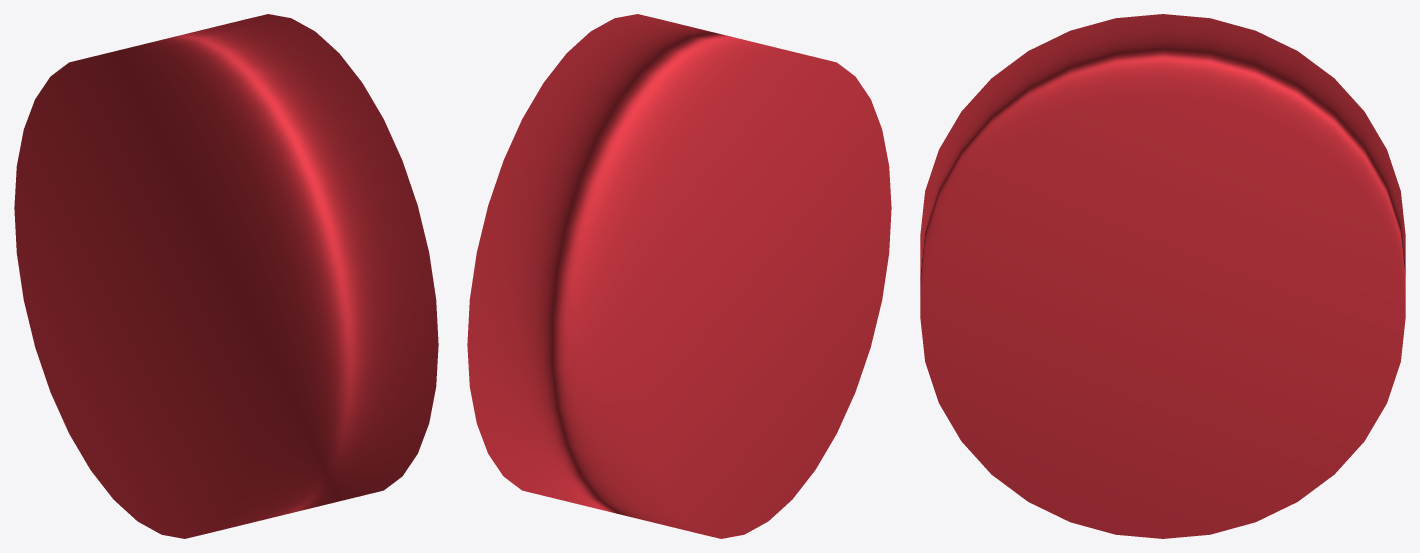
File: GT3_CenterLock_Nut_RL.glb
3 views of the same model, side by side, from view 1: azimuth 30°, elevation 25°; view 2: azimuth 150°, elevation 25°; view 3: azimuth 270°, elevation 25° (orthographic).
Visible parts, largest first — view 1: GT3_Centerlock_Nut_RL; view 2: GT3_Centerlock_Nut_RL; view 3: GT3_Centerlock_Nut_RL.
Boxes of the visible parts, x1=… form: GT3_Centerlock_Nut_RL: x1=14, y1=14, x2=438, y2=538; GT3_Centerlock_Nut_RL: x1=467, y1=14, x2=891, y2=538; GT3_Centerlock_Nut_RL: x1=920, y1=14, x2=1405, y2=538.
Bounding box in the file's own units: 0.035 × 0.084 × 0.084.
